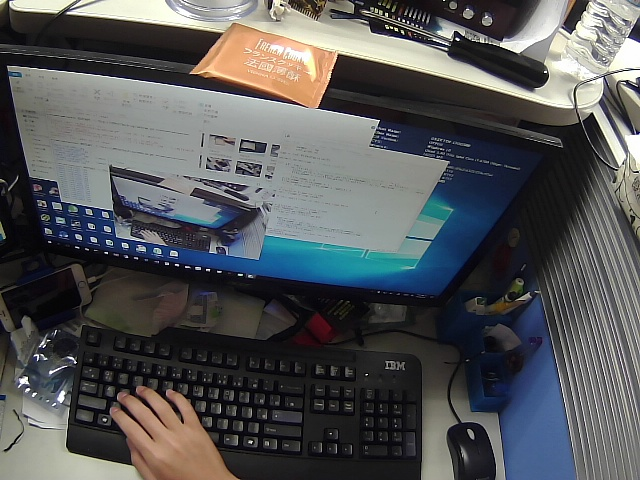frenchcookie: (181, 18, 355, 117)
